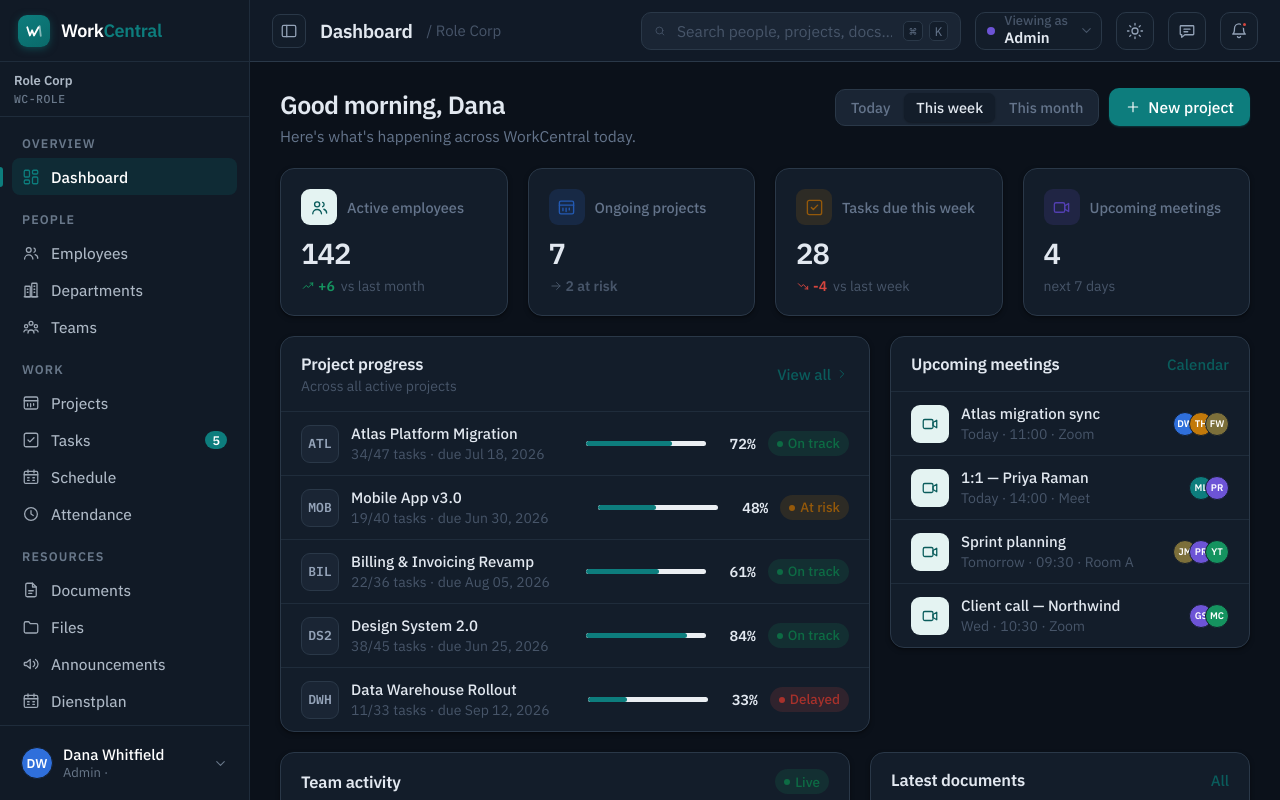
Scenario: LockedPage › "Request Access" button changes to "Request Sent ✓" after click
Step 1. Click the element with class "role-switch" → (1039, 30), box [975,12,1102,50]
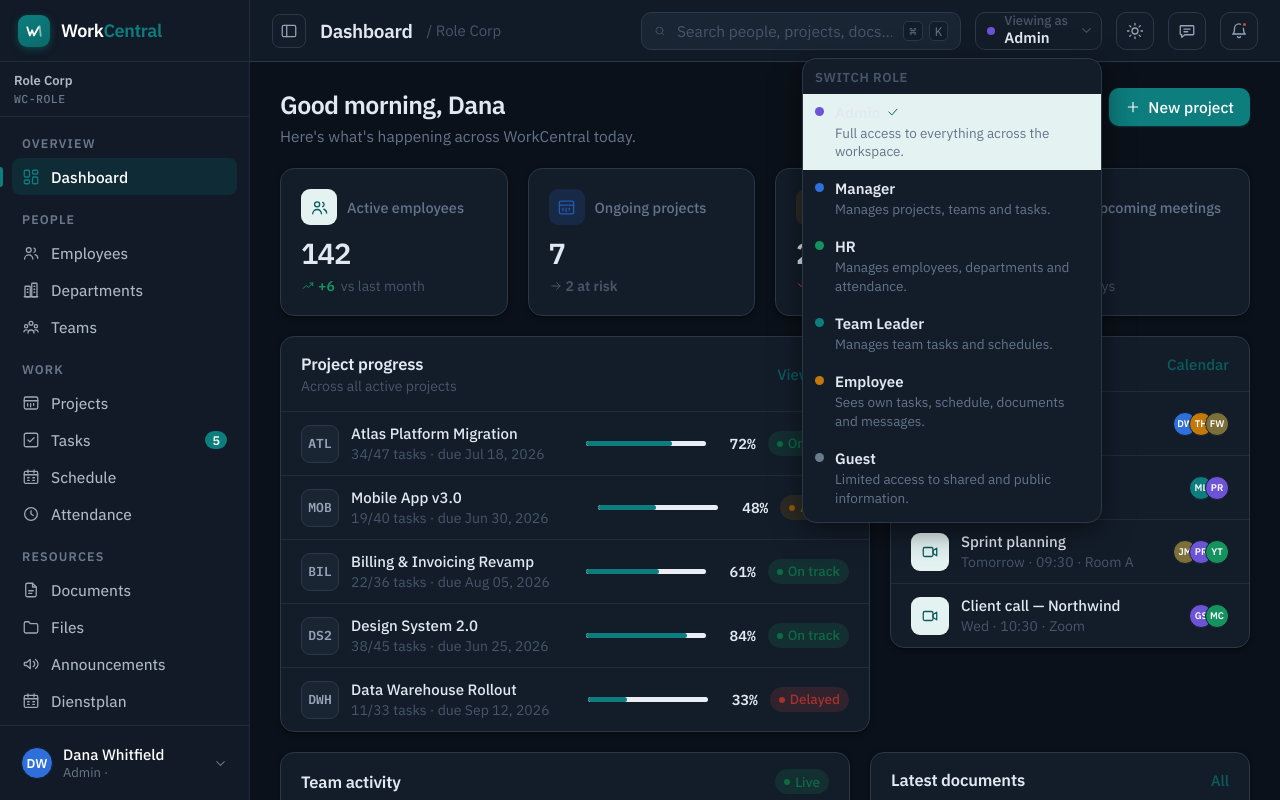
Step 2. Click the text "Employee" → (869, 381), box [835,372,904,391]
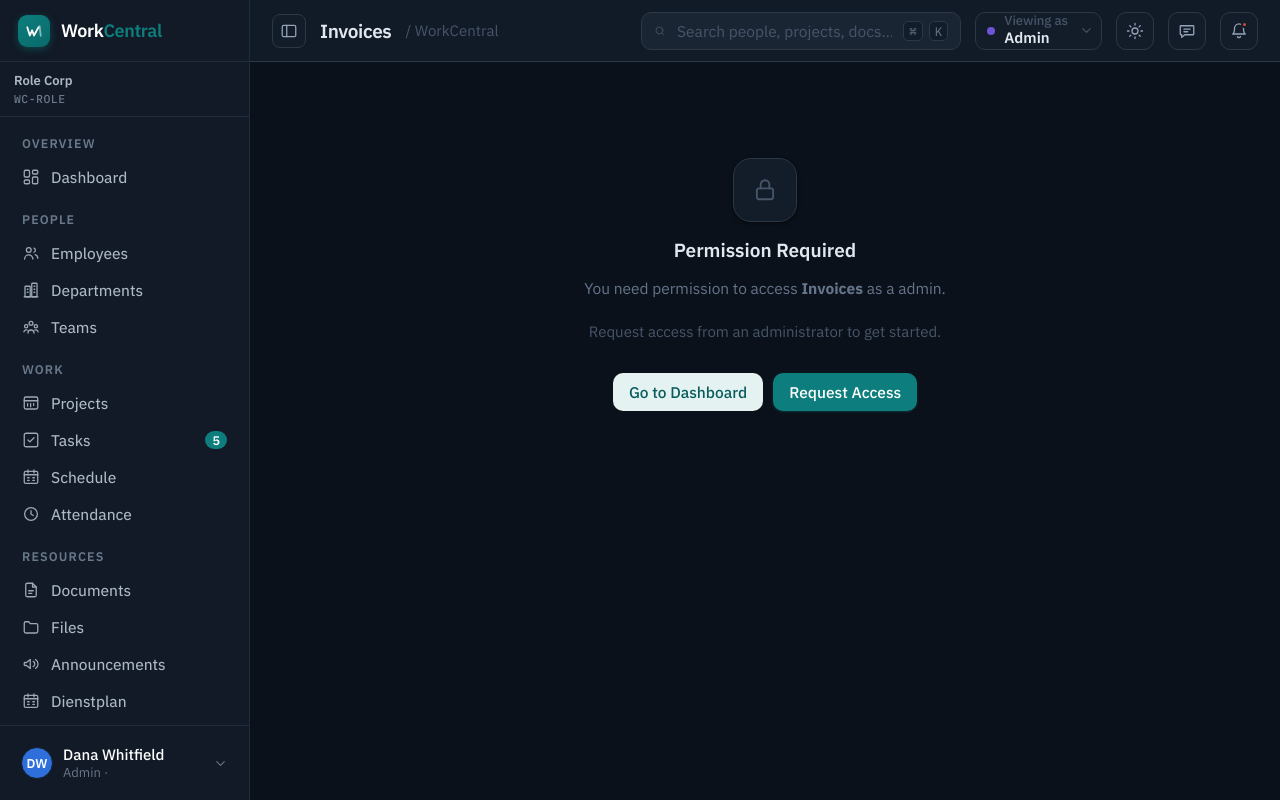
Now the button "Request Access" is shown
Step 3. Click the button "Request Access" → (845, 392), box [773,373,917,411]
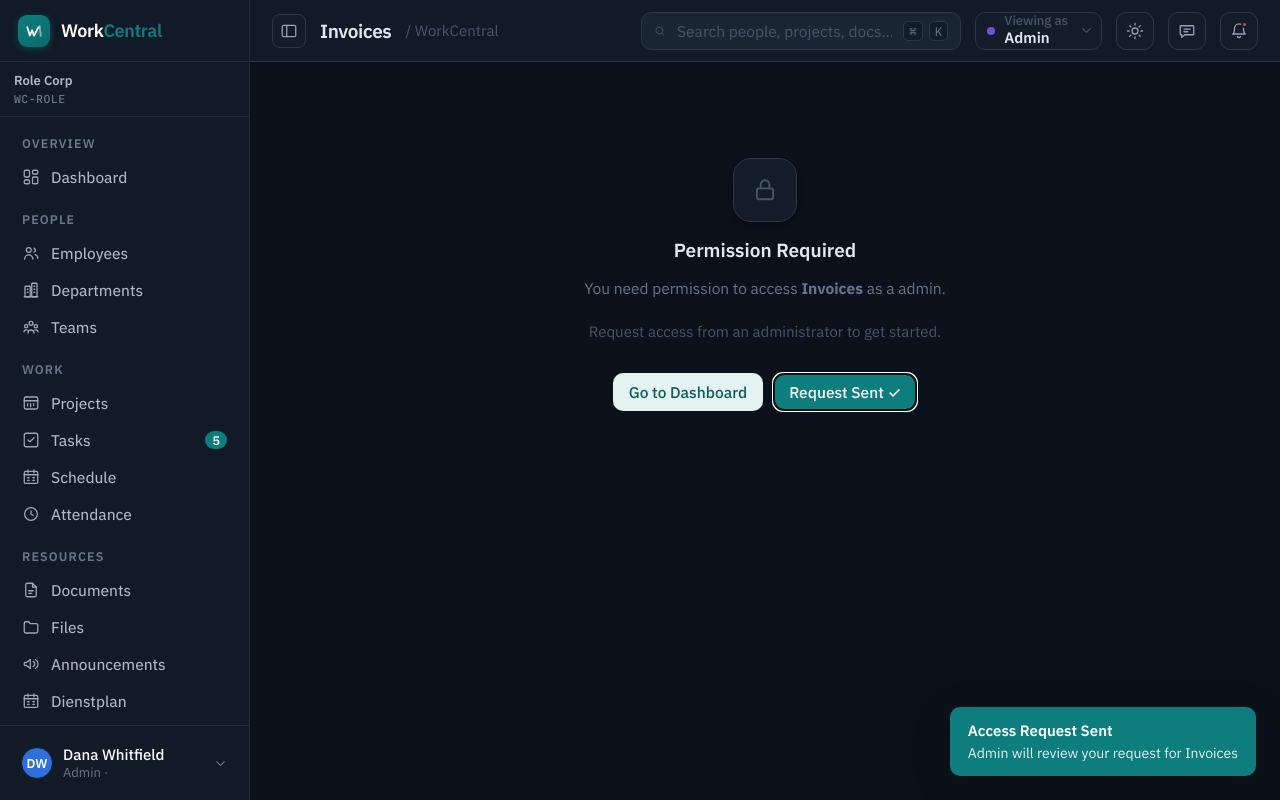
Now the button "Request Sent ✓" is shown, box [773,373,917,411]
